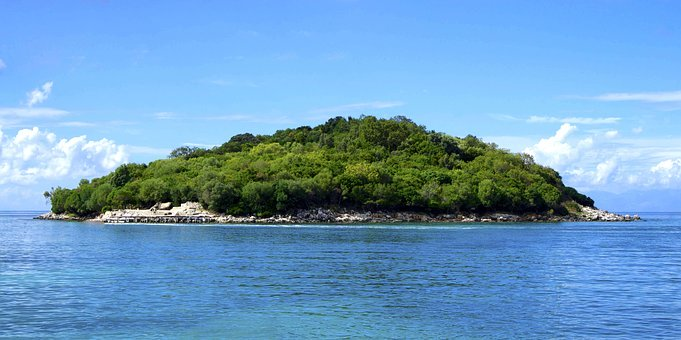mountain: (72, 122, 604, 214)
sea: (5, 210, 680, 335)
sky: (12, 1, 671, 147)
